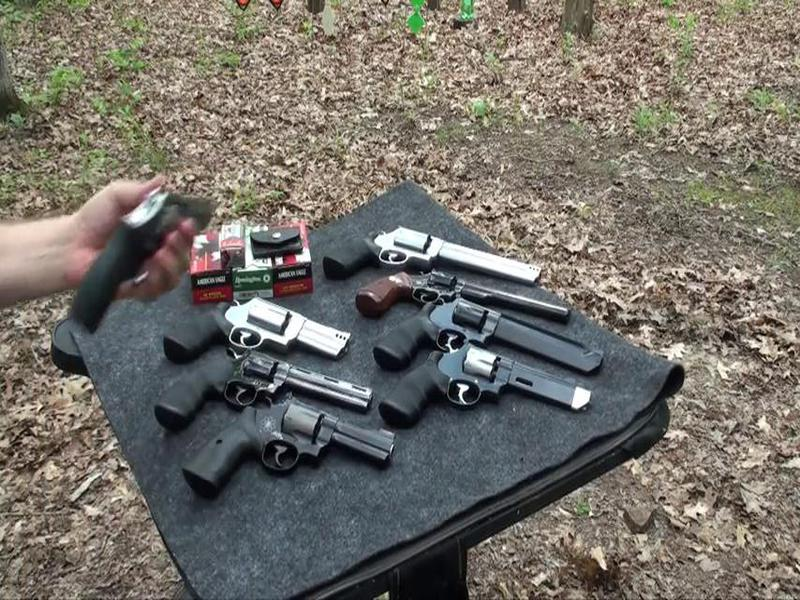Revolver: (73, 178, 226, 343)
